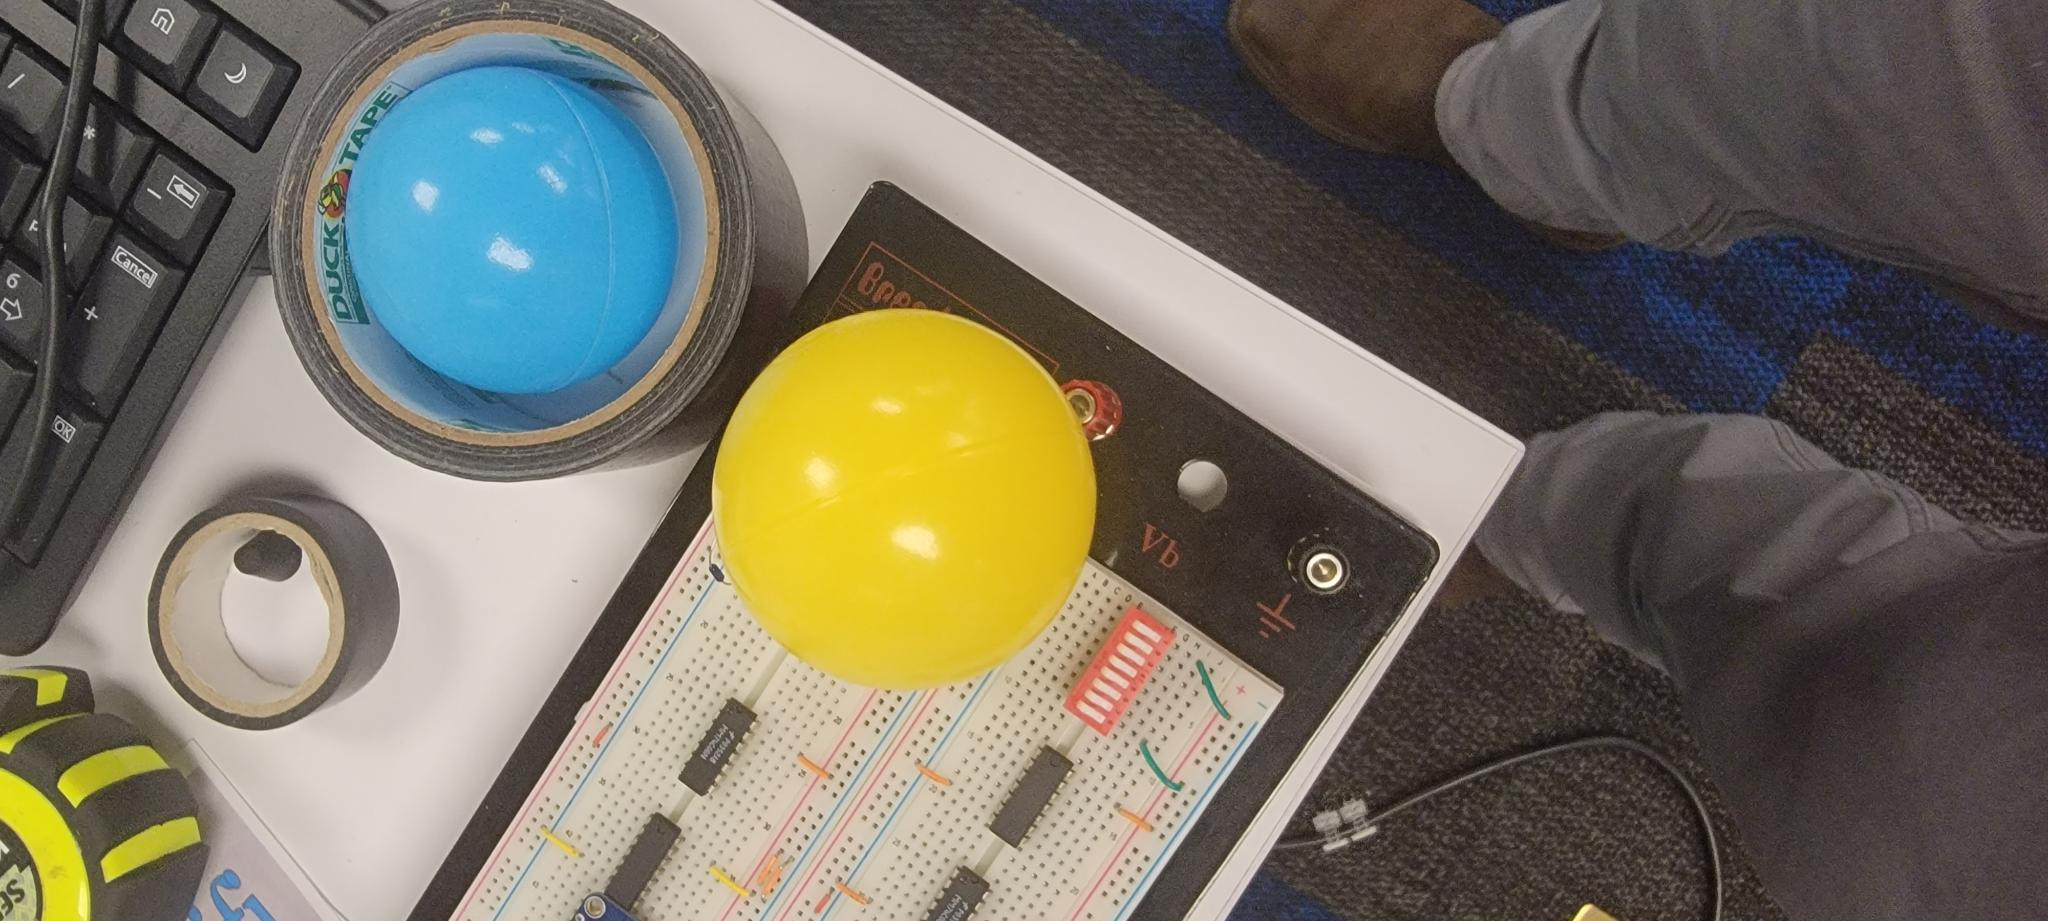Yellow-Ball: (240, 708, 619, 921)
